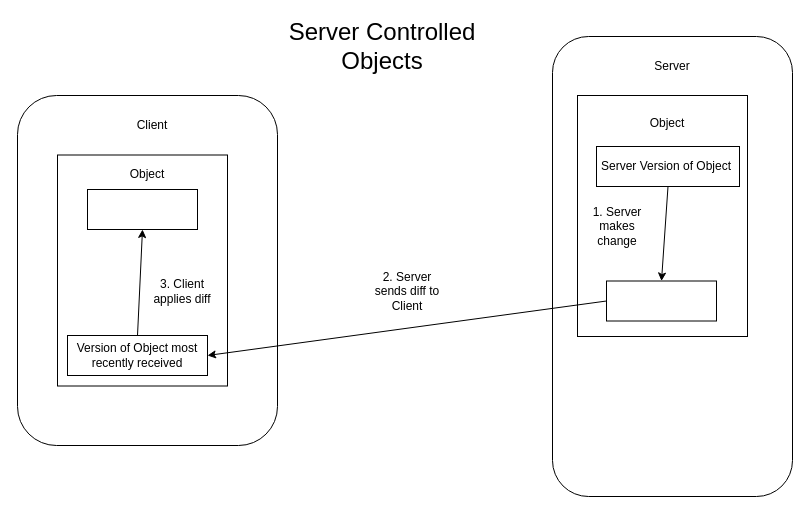
This 810x514 diagram has some shape labels left out. The box of each missing label's shape, as (x1, y1, x2, y2) in pixels:
Client Version of Object: (86, 188, 198, 230)
Version of Object most recently sent: (606, 280, 716, 321)
